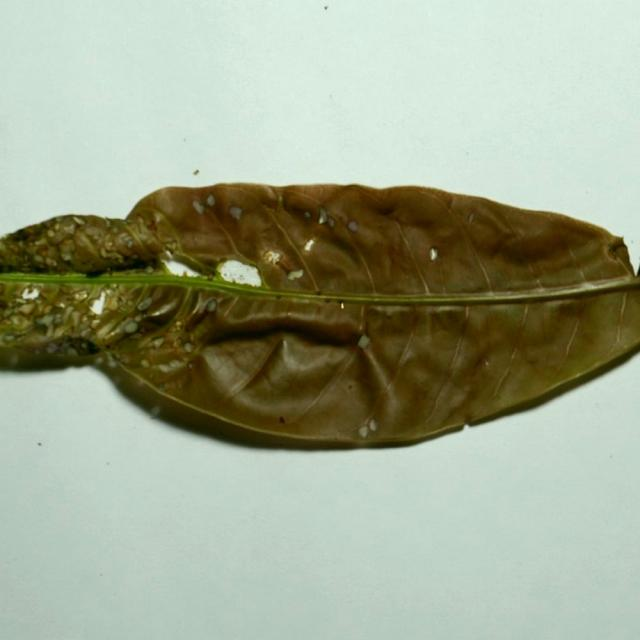Anthracnose: (480, 299, 539, 413), (205, 245, 283, 322), (210, 241, 302, 296), (384, 311, 422, 406), (455, 211, 497, 292), (68, 219, 134, 268), (0, 219, 61, 272), (92, 295, 158, 343), (516, 276, 640, 300), (154, 284, 202, 345), (2, 270, 172, 287), (302, 200, 365, 245), (606, 232, 634, 333), (4, 290, 62, 337), (530, 253, 598, 290), (387, 416, 467, 440), (167, 242, 218, 278), (129, 218, 170, 259), (558, 304, 584, 368), (292, 291, 356, 307), (9, 281, 48, 306), (101, 335, 130, 358), (369, 197, 399, 217), (192, 195, 219, 217), (423, 245, 447, 269), (276, 338, 292, 369), (607, 236, 629, 258), (316, 206, 335, 228), (358, 418, 377, 438), (352, 310, 365, 338), (466, 411, 488, 426), (85, 339, 103, 354), (275, 192, 285, 214), (228, 206, 242, 220), (464, 413, 475, 429), (104, 354, 117, 366), (147, 217, 158, 231), (193, 201, 204, 215), (206, 194, 216, 207), (208, 301, 217, 312), (157, 382, 166, 391), (387, 308, 397, 316), (637, 255, 640, 279), (468, 213, 475, 223), (624, 236, 630, 247), (278, 415, 284, 424), (304, 211, 311, 218), (484, 360, 490, 367)
Mango: (0, 183, 639, 454)
